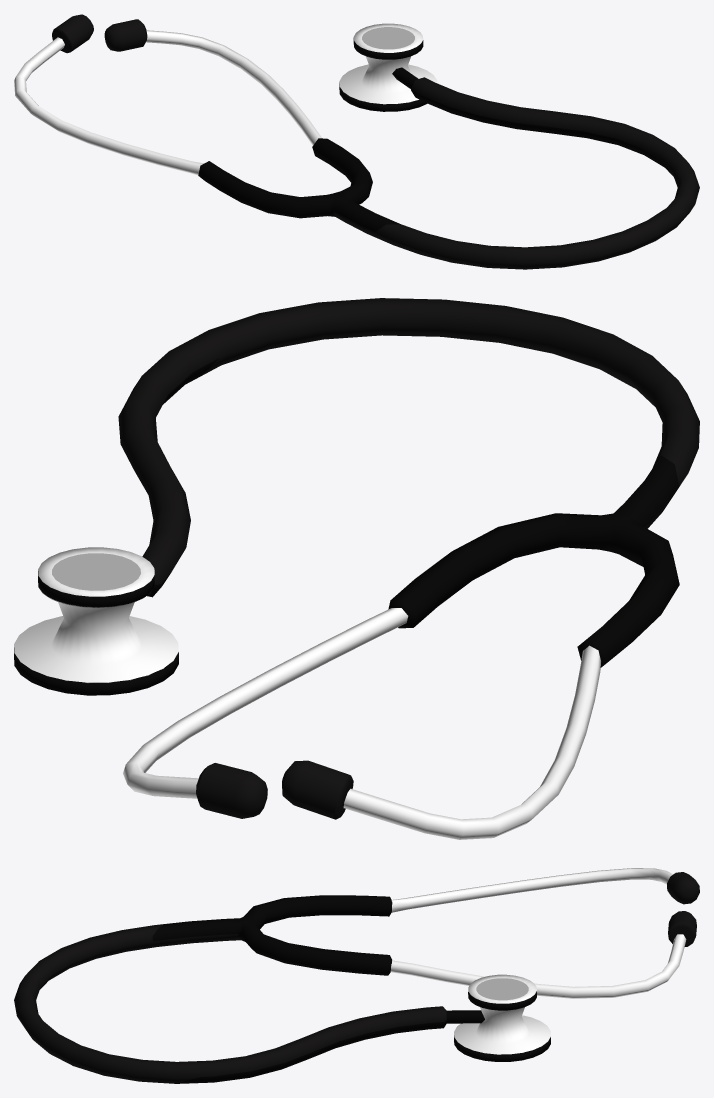
Rendered from stethascope.fbx.
3 renders of one model, top to bottom at view 1: azimuth 30°, elevation 25°; view 2: azimuth 150°, elevation 25°; view 3: azimuth 270°, elevation 25°, orthographic. The views are drawn at different scales.
Parts seen in each view (by area): view 1: pvc_tube, chest_piece, ear_hook, pvc_tube1, ear_tips; view 2: pvc_tube, chest_piece, pvc_tube1, ear_hook, ear_tips; view 3: pvc_tube, chest_piece, ear_hook, pvc_tube1, ear_tips.
Part boxes in pixels (x1=…): pvc_tube: x1=198, y1=67, x2=699, y2=269; chest_piece: x1=339, y1=23, x2=437, y2=111; ear_hook: x1=14, y1=37, x2=203, y2=175; pvc_tube1: x1=146, y1=30, x2=321, y2=145; ear_tips: x1=52, y1=14, x2=147, y2=53; pvc_tube: x1=118, y1=298, x2=699, y2=667; chest_piece: x1=14, y1=547, x2=178, y2=695; pvc_tube1: x1=123, y1=608, x2=408, y2=798; ear_hook: x1=343, y1=645, x2=600, y2=839; ear_tips: x1=196, y1=760, x2=353, y2=819; pvc_tube: x1=14, y1=895, x2=484, y2=1083; chest_piece: x1=454, y1=974, x2=550, y2=1061; ear_hook: x1=391, y1=868, x2=672, y2=912; pvc_tube1: x1=390, y1=934, x2=686, y2=998; ear_tips: x1=667, y1=872, x2=699, y2=946.
Size of the model in its own units: 19.28 by 2.53 by 26.58.
Materials: 1 (1 with a texture image).
